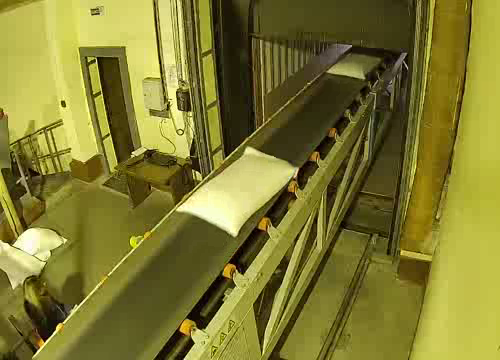bag: (170, 144, 305, 242), (323, 49, 393, 83)
